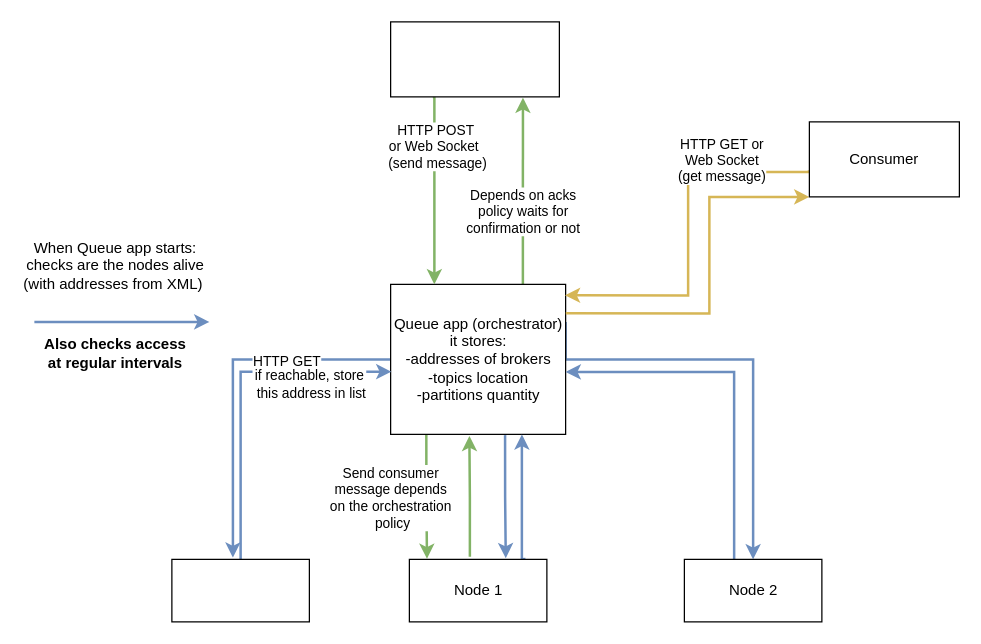
Some shapes in this 981 by 644 pixel diagram are drawn without their labels. Here are the shapes that lost their labels. From the top down, the centre of each, then its label:
At (474,59): "Producer".
At (240,590): "Node 0".
